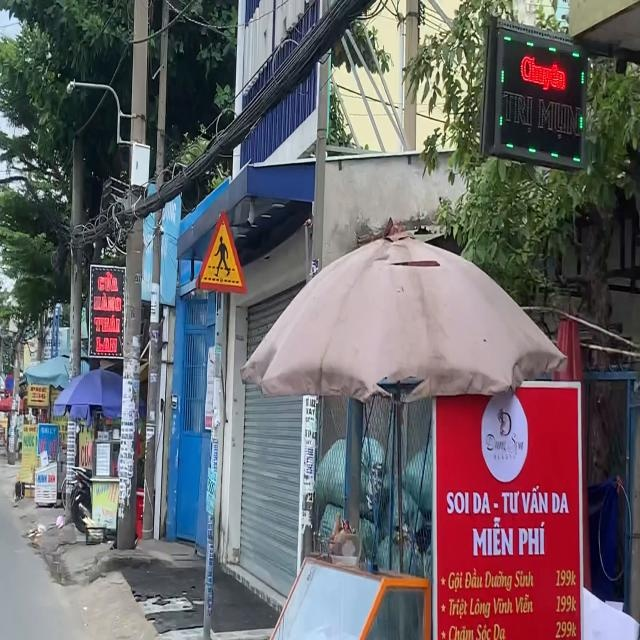bien_nguy_hiem: (195, 210, 247, 294)
